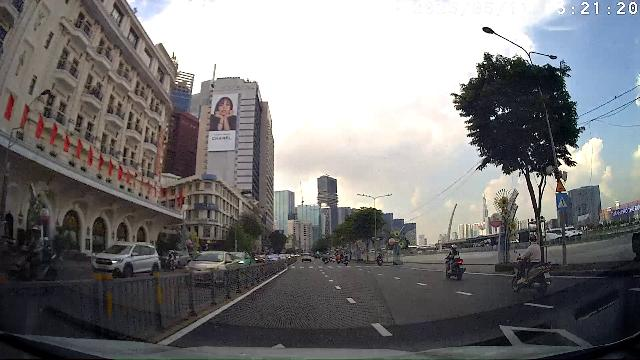423a-duong-nguoi-di-bo-sang-ngang-1: (556, 193, 569, 210)
